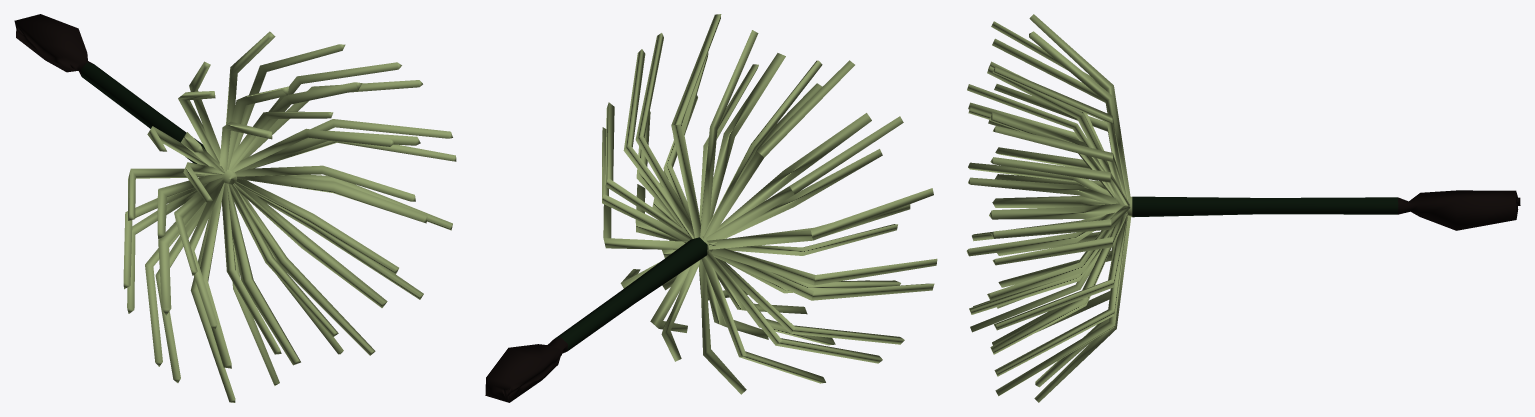
Rendered from dandelion2.obj.
The picture shows the model from 3 angles, left to right: view 1: azimuth 30°, elevation 25°; view 2: azimuth 150°, elevation 25°; view 3: azimuth 270°, elevation 25°; orthographic projection. The views are drawn at different scales.
Parts seen in each view (by area): view 1: dandelion62_dandelion62_Material.001, dandelion62_dandelion62_Braun, dandelion62_dandelion62_Material.002; view 2: dandelion62_dandelion62_Material.001, dandelion62_dandelion62_Material.002, dandelion62_dandelion62_Braun; view 3: dandelion62_dandelion62_Material.001, dandelion62_dandelion62_Material.002, dandelion62_dandelion62_Braun.
Part boxes in pixels (x1,y1,x2,y2): dandelion62_dandelion62_Material.001: (123, 31, 456, 402); dandelion62_dandelion62_Braun: (14, 14, 93, 76); dandelion62_dandelion62_Material.002: (81, 62, 206, 163); dandelion62_dandelion62_Material.001: (602, 14, 937, 394); dandelion62_dandelion62_Material.002: (554, 237, 707, 350); dandelion62_dandelion62_Braun: (485, 338, 567, 402); dandelion62_dandelion62_Material.001: (966, 14, 1132, 402); dandelion62_dandelion62_Material.002: (1132, 196, 1398, 217); dandelion62_dandelion62_Braun: (1398, 190, 1520, 230).
Size of the model in its own units: 2.51 by 2.59 by 3.7.
